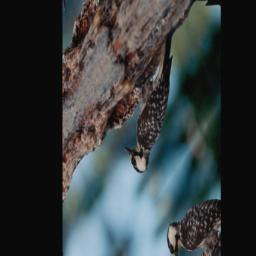Woodpecker: (108, 20, 205, 193)
